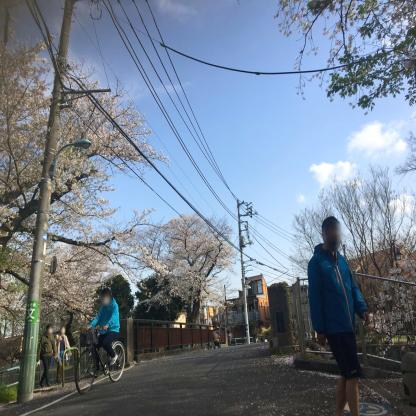Someiyoshino: (0, 9, 162, 331), (127, 207, 240, 316)
